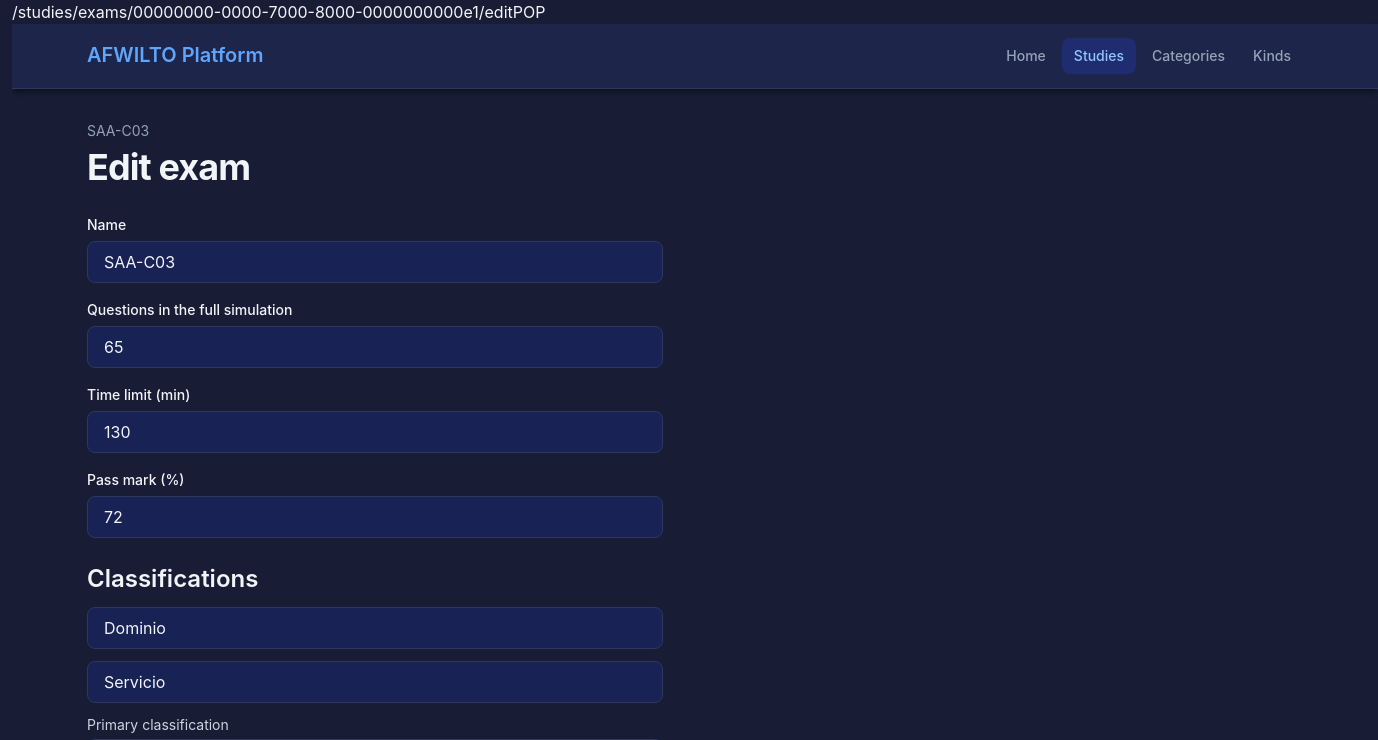
it: ExamEditPage: server failures › a duplicate exam name lands on the name field
Step 1. Replace the text in the number field labelled "Pass mark (%)" with "80" → (375, 517), box [87, 496, 663, 538]
(page scrolled)
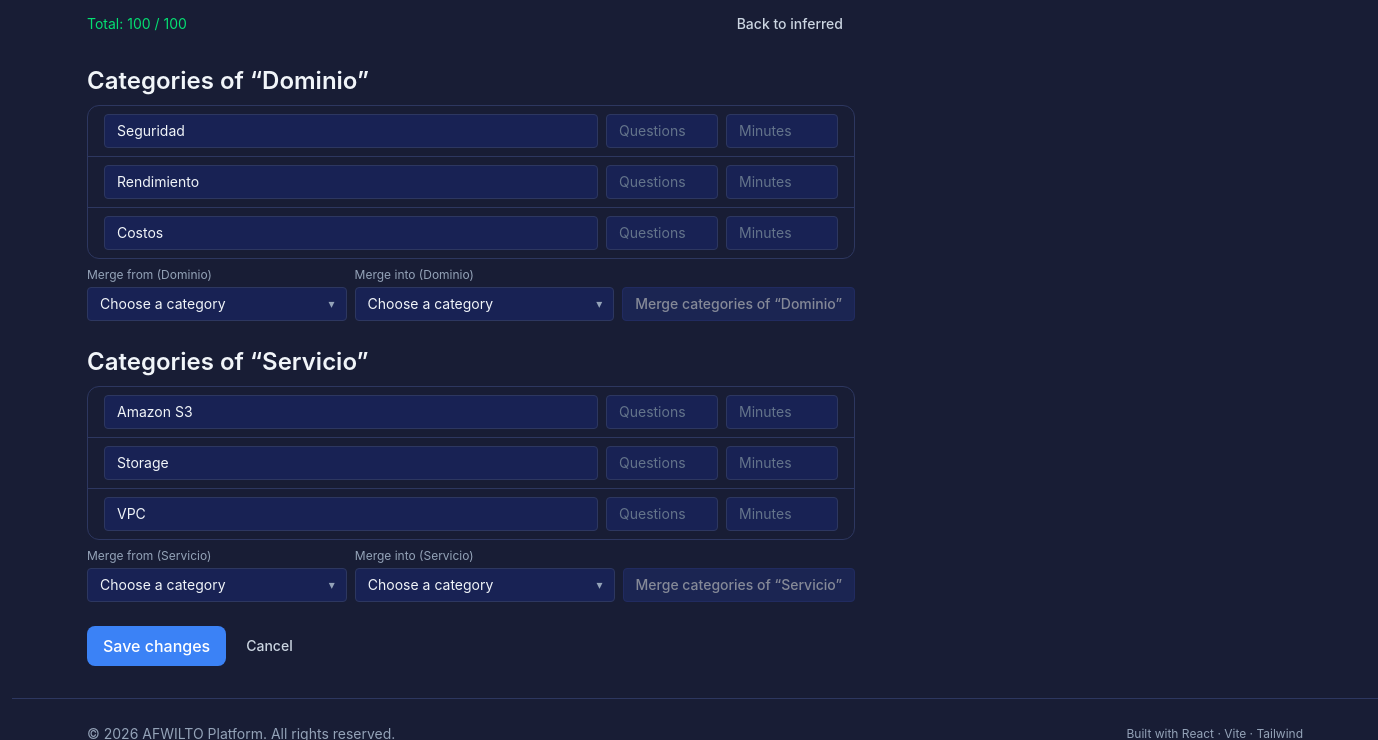
Step 2. Click the button "Save changes" → (157, 646), box [87, 626, 226, 666]
(page scrolled)
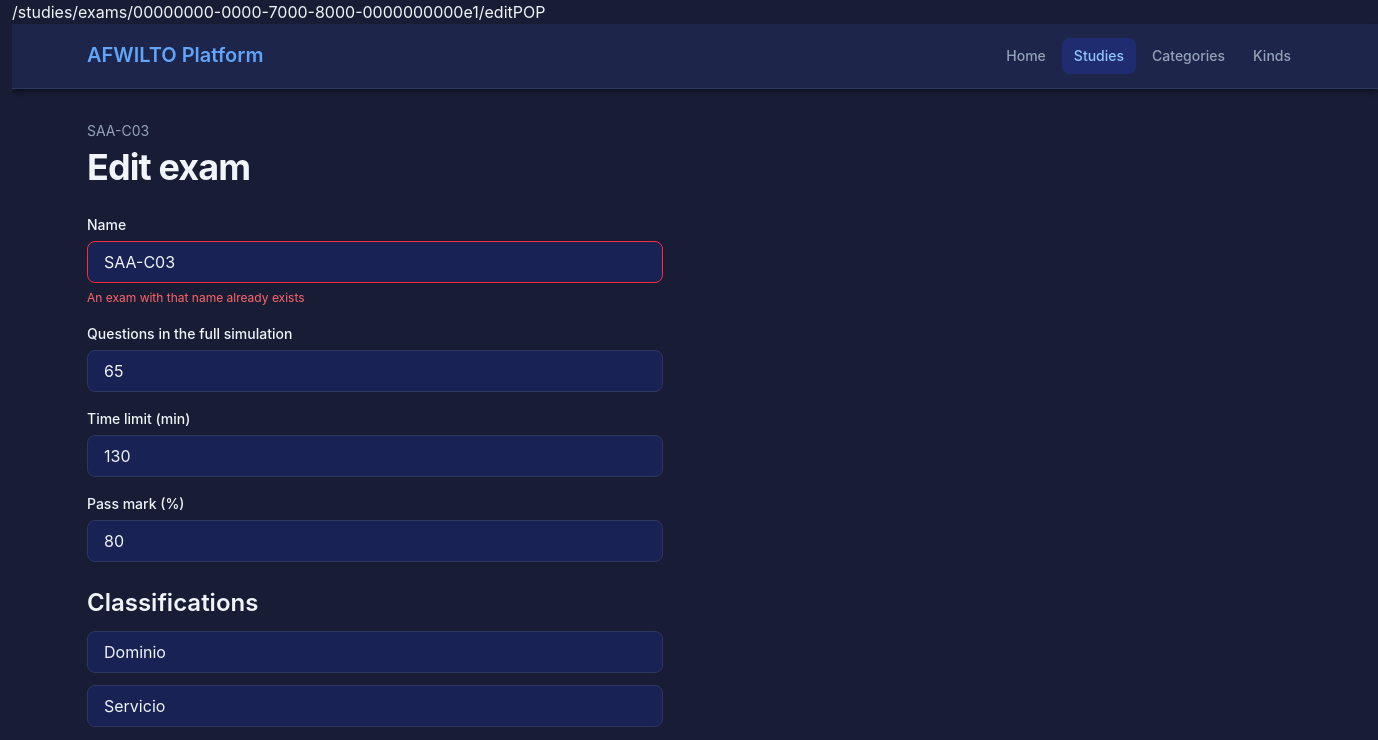
Expected: the text "An exam with that name already exists" is shown, [87, 290, 304, 305]
